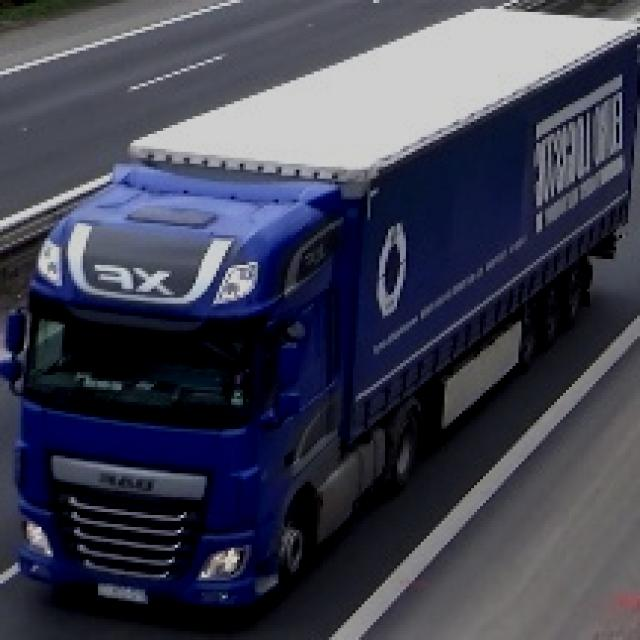TRUCK: (23, 93, 465, 620)
